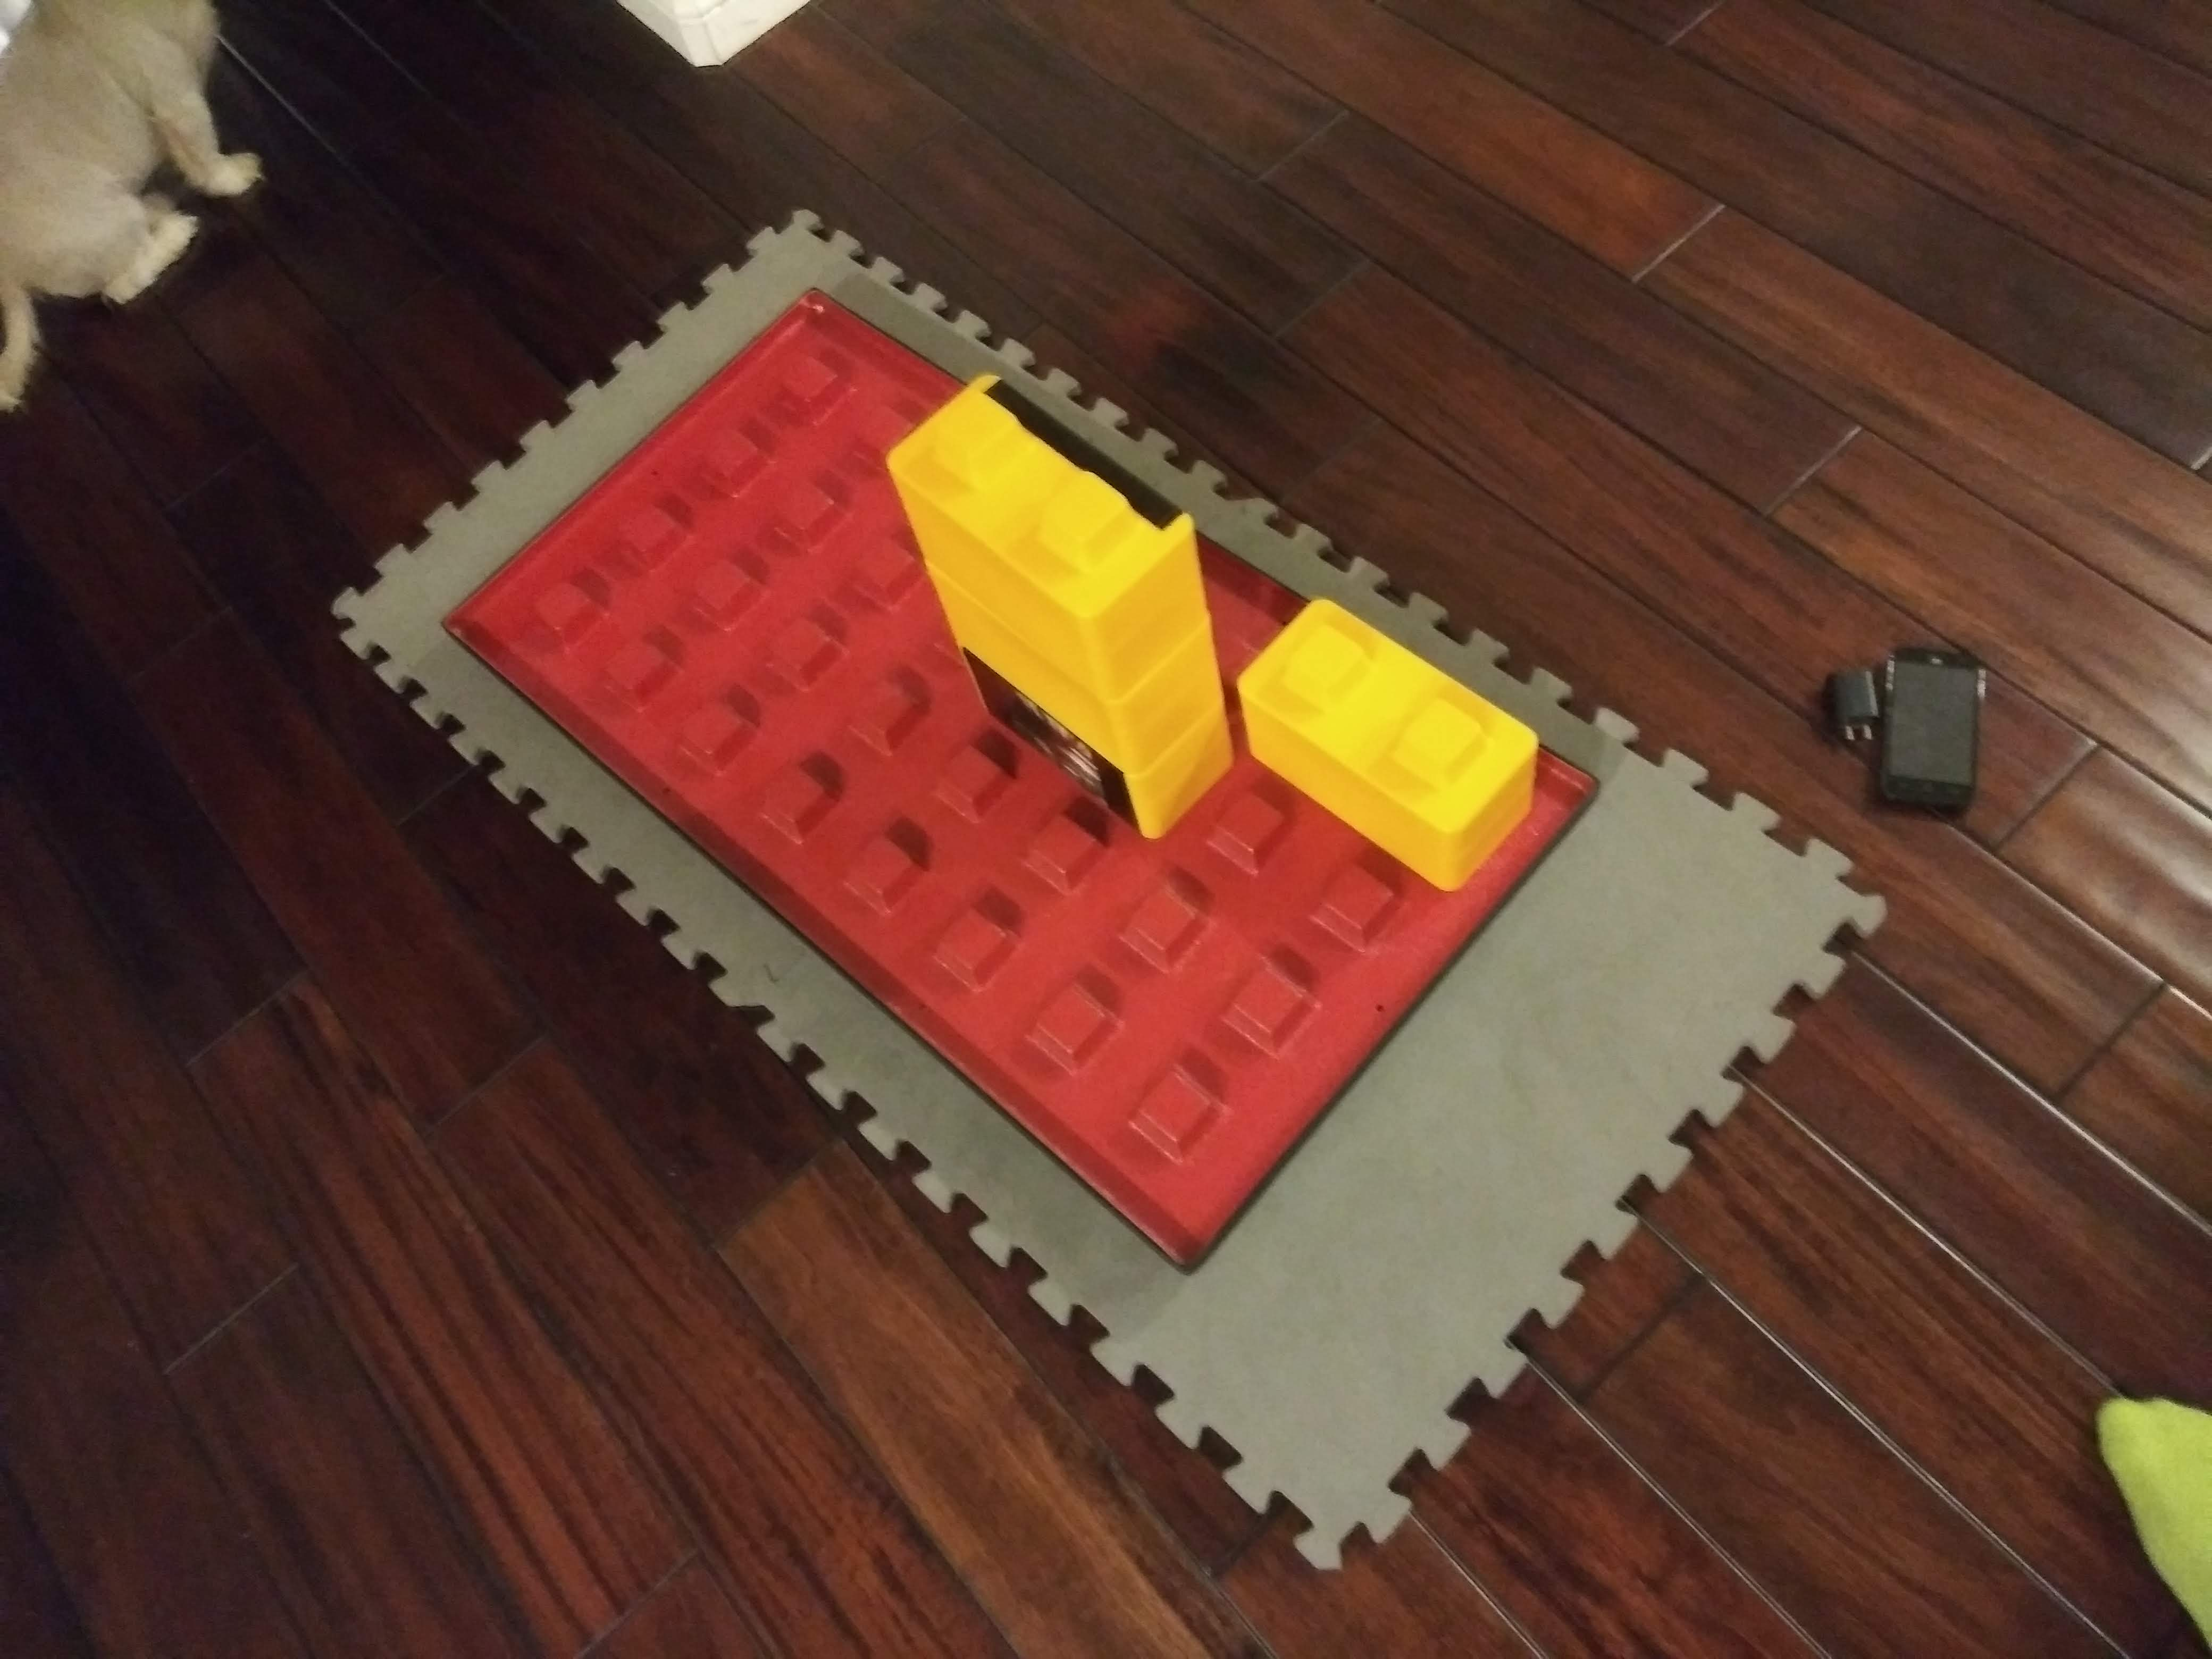red foundation: (469, 301, 1597, 1206)
